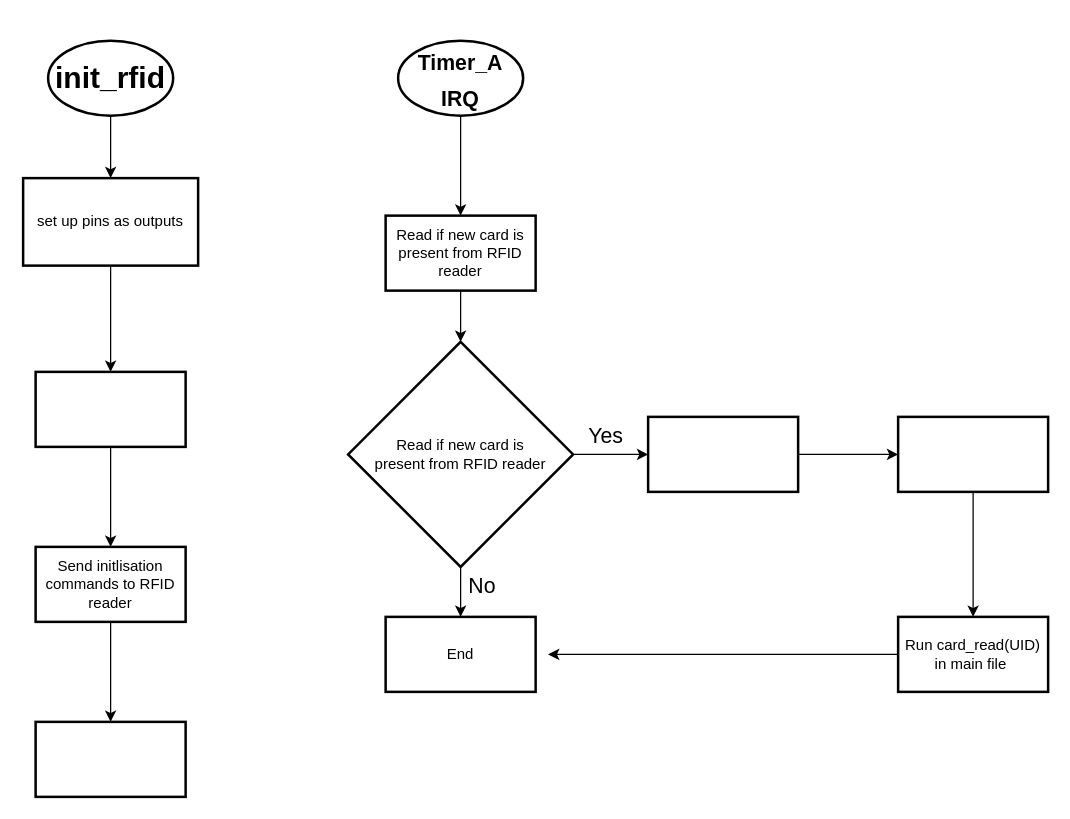
Image size: 1070x819. Some labels were removed from this diagram. The shapes that lost their labels are listed below. From the top down, each one's centre as x and y in pixels, then its label:
At point 110,409: "configure eUSCI for 3 wire spi mode".
At point 722,453: "Read UID from card".
At point 972,453: "Set card status to seen".
At point 110,759: "Configure Timer_A for an intrupt every 100ms".
